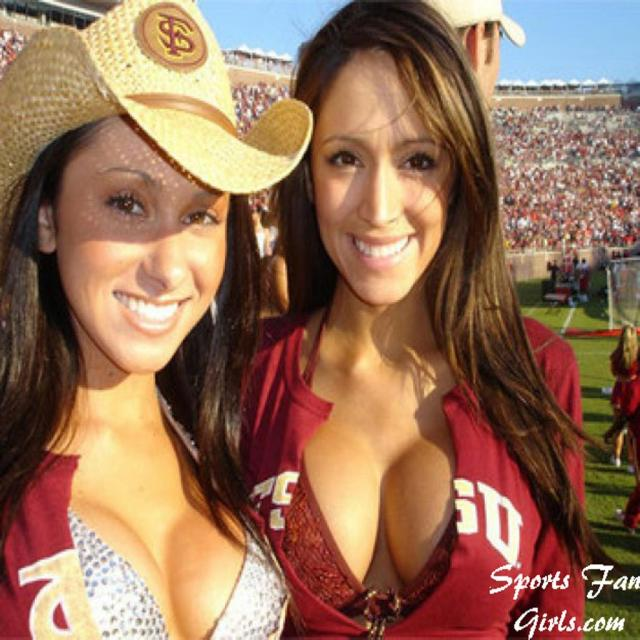nomask: (58, 120, 226, 372), (312, 60, 448, 307)
